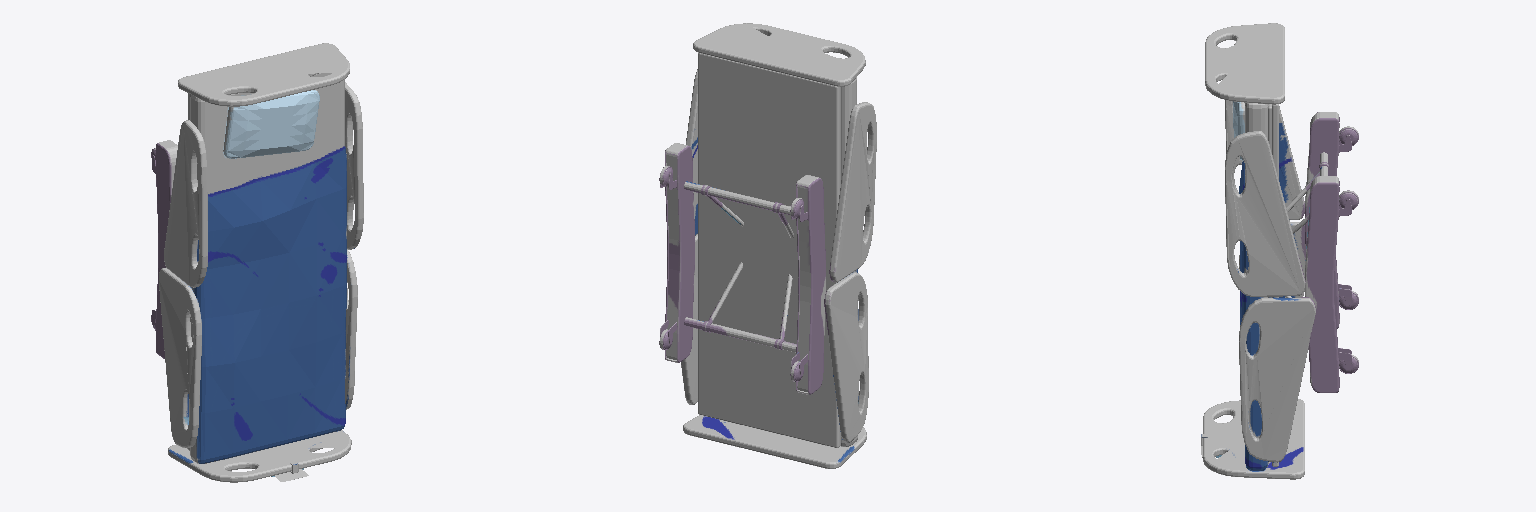
3 renders of one model, left to right at view 1: azimuth 30°, elevation 25°; view 2: azimuth 150°, elevation 25°; view 3: azimuth 270°, elevation 25°, orthographic.
Visible parts, largest first — view 1: submesh; view 2: submesh; view 3: submesh.
Part boxes in pixels (bbox=[...]): submesh: bbox=[151, 43, 363, 482]; submesh: bbox=[659, 23, 876, 468]; submesh: bbox=[1201, 23, 1358, 479].
Bounding box in the file's own units: 1.42 × 3.21 × 1.18.
1 materials, 1 textured.